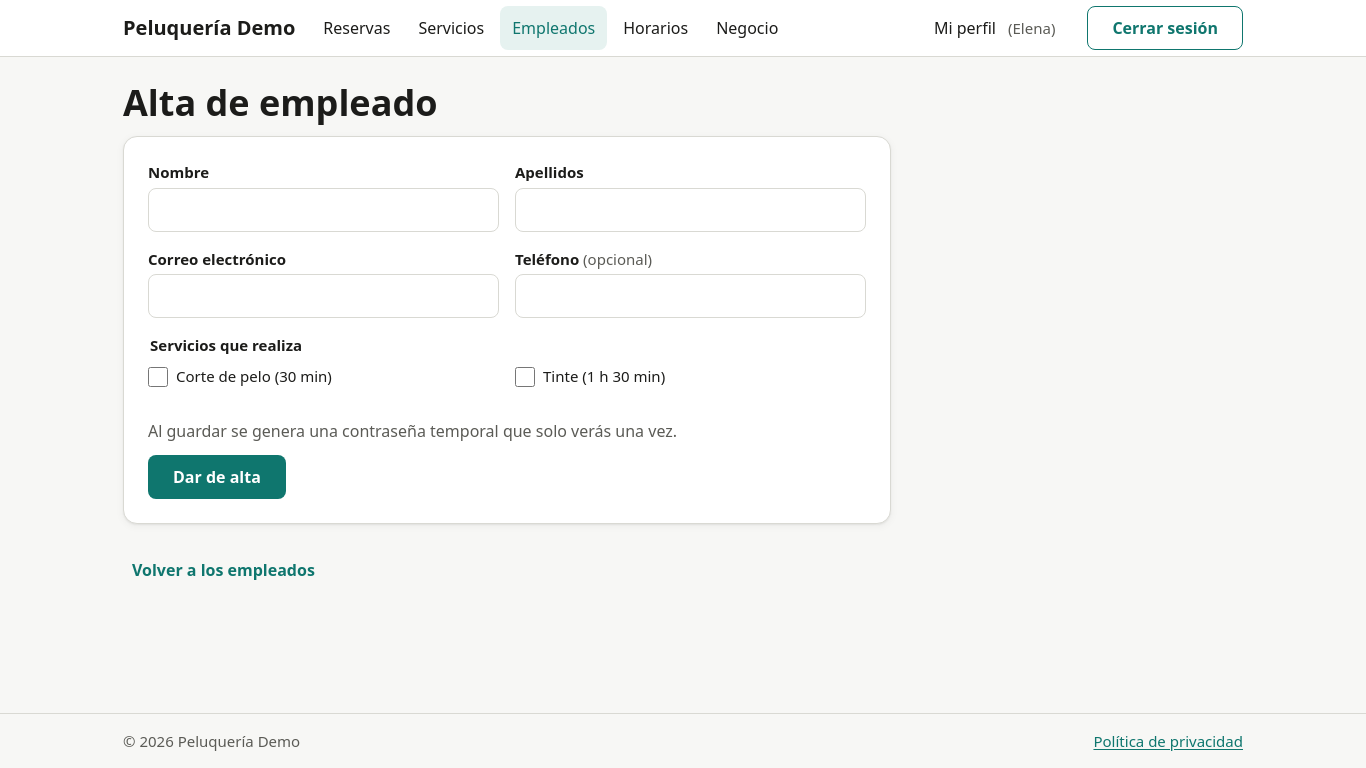
Scenario: empleados (CU-017, RN-005) › da de alta un empleado y muestra su contraseña temporal una vez
This screenshot has width=1366, height=768.
In the field labelled "Nombre": point(324, 210) [148, 188, 499, 232], type "Ana"
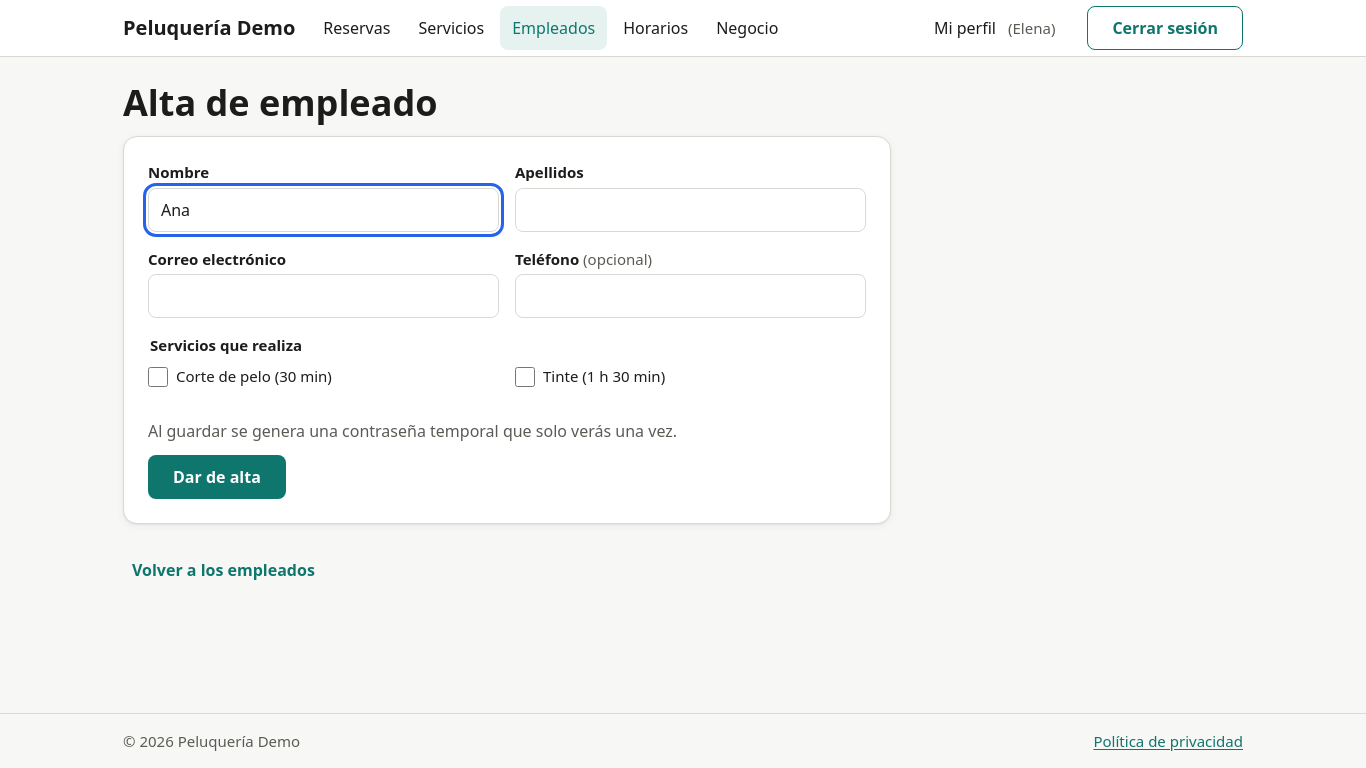
In the field labelled "Apellidos": point(690, 210) [515, 188, 866, 232], type "Martín"
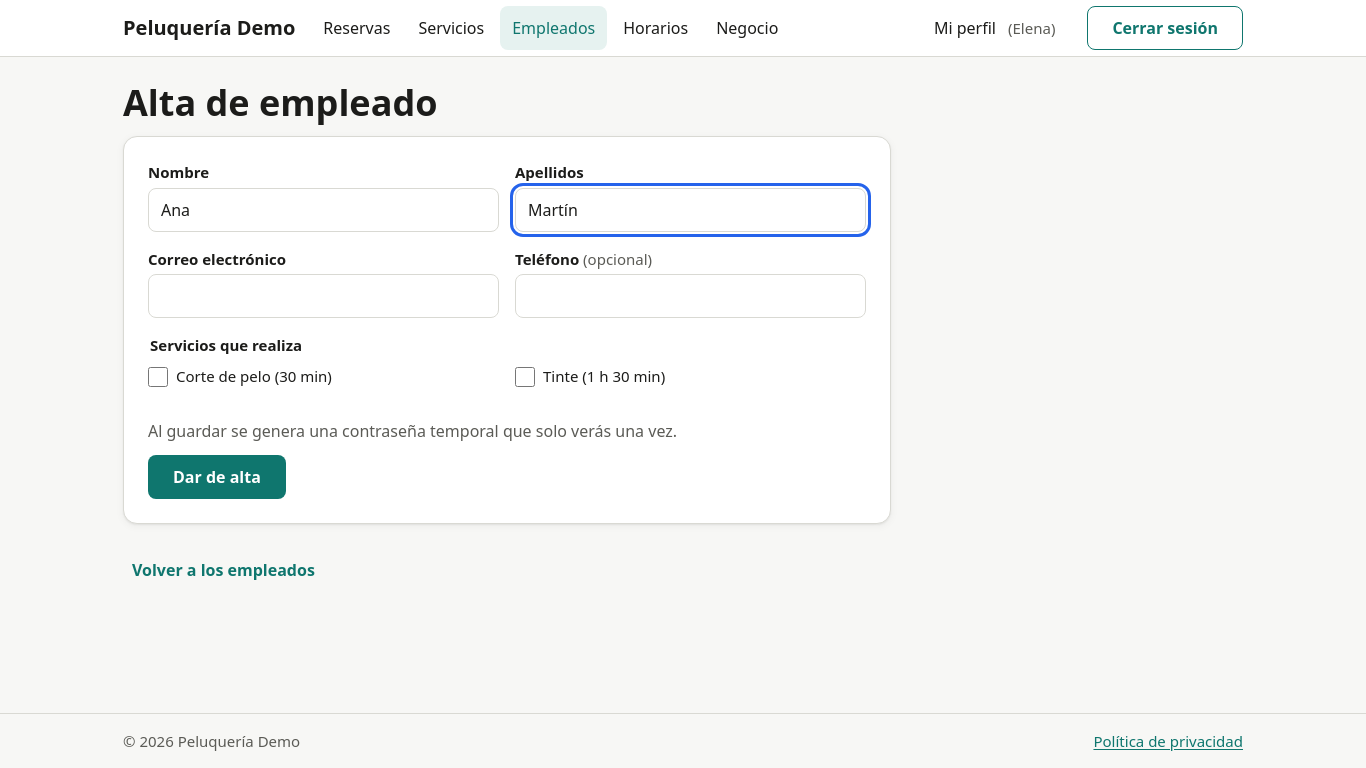
In the field labelled "Correo electrónico": point(324, 296) [148, 274, 499, 318], type "ana@demo.invalid"
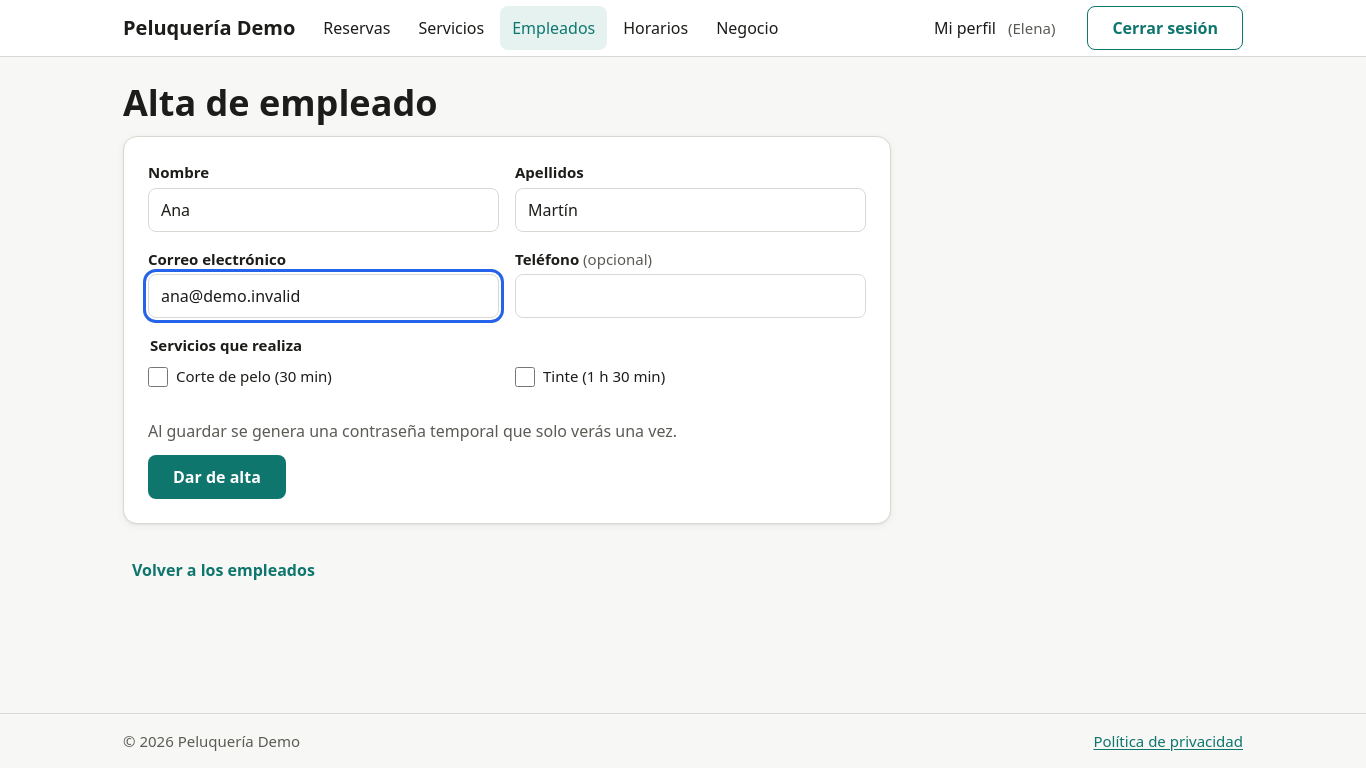
Click the checkbox labelled "Tinte (1 h 30 min)": point(525, 377) [515, 367, 535, 387]
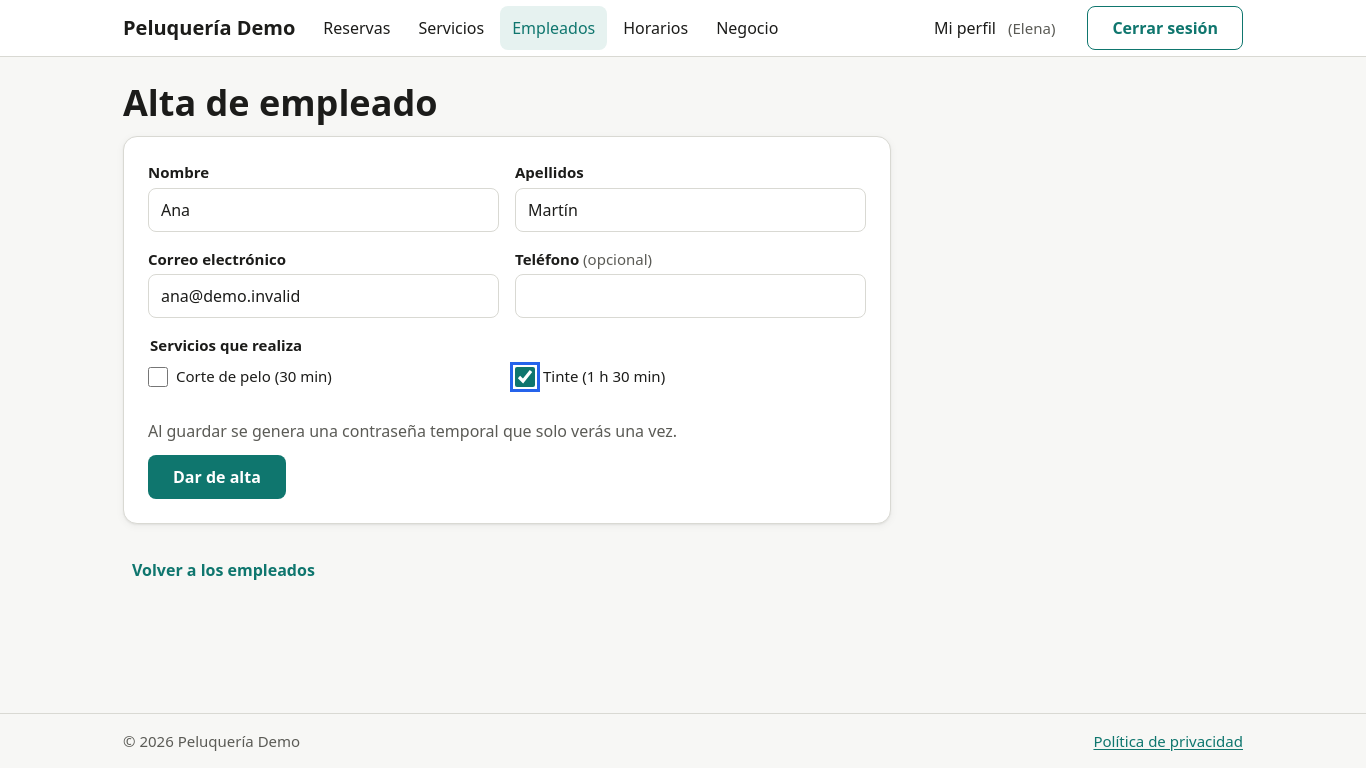
Click the button "Dar de alta": point(217, 477) [148, 455, 286, 499]
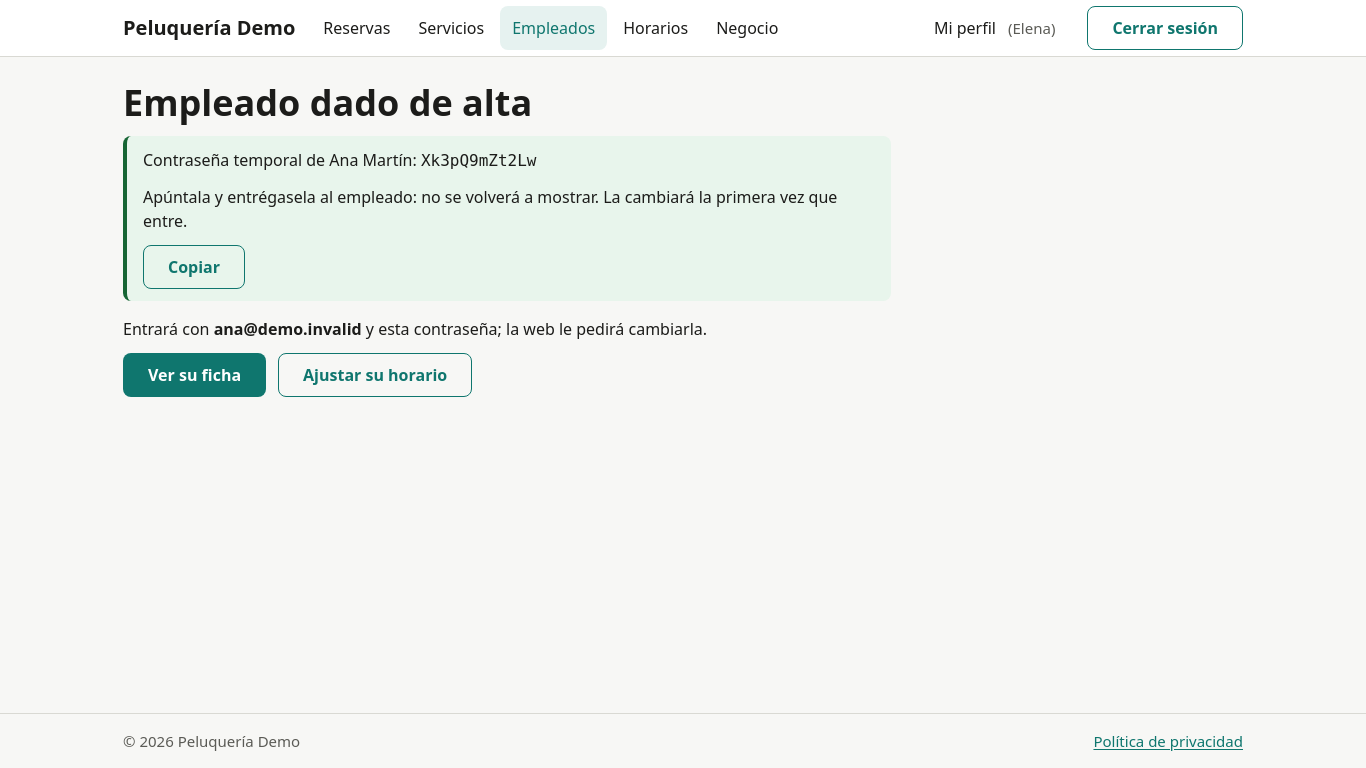
Expected: the text "Xk3pQ9mZt2Lw" is shown, [421, 151, 536, 170]
Expected: the text "no se volverá a mostrar" is shown, [143, 186, 837, 232]
